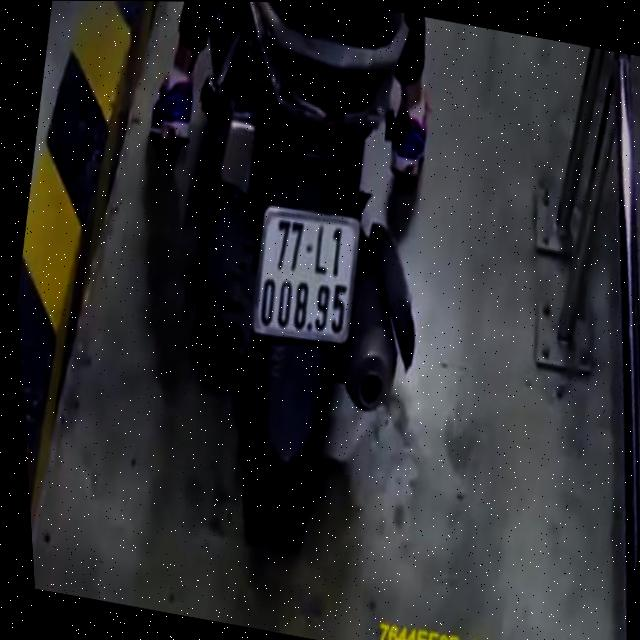motorcycle: (119, 1, 490, 550)
plate: (238, 198, 374, 349)
